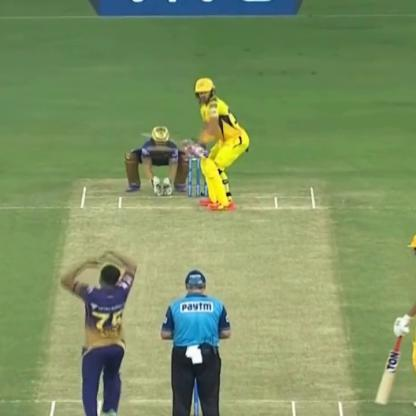bat: (133, 121, 215, 160)
pitch: (32, 173, 364, 416)
